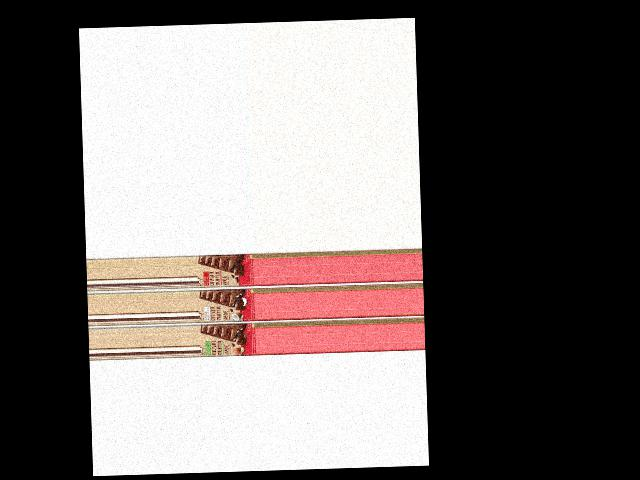chocolate: (199, 323, 256, 358)
